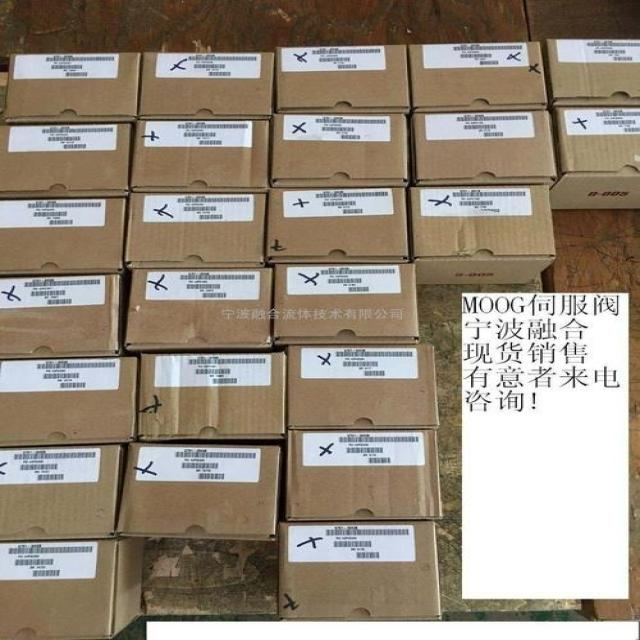Carton: (0, 352, 442, 520), (278, 523, 440, 621), (116, 445, 282, 536), (289, 344, 438, 427), (270, 264, 419, 344), (0, 539, 114, 638), (407, 184, 557, 259), (123, 268, 270, 344), (0, 444, 120, 537), (411, 111, 556, 183), (265, 188, 406, 262), (0, 274, 120, 356), (128, 194, 264, 266), (0, 122, 129, 197), (129, 120, 268, 189), (1, 51, 134, 122), (270, 115, 406, 184), (408, 42, 547, 109), (0, 198, 122, 273), (278, 46, 410, 112), (140, 51, 271, 117), (547, 38, 639, 104), (557, 108, 639, 174)
